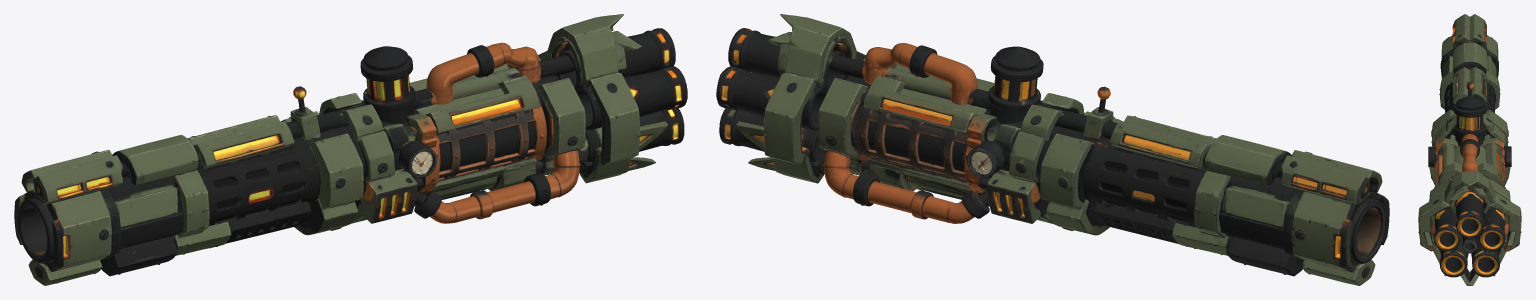
The model's file is shotgun_source.glb.
3 renders of one model, left to right at view 1: azimuth 30°, elevation 25°; view 2: azimuth 150°, elevation 25°; view 3: azimuth 270°, elevation 25°, orthographic. The views are drawn at different scales.
Size of the model in its own units: 1.9 by 0.5221 by 0.4259.
1 material, 1 textured.
